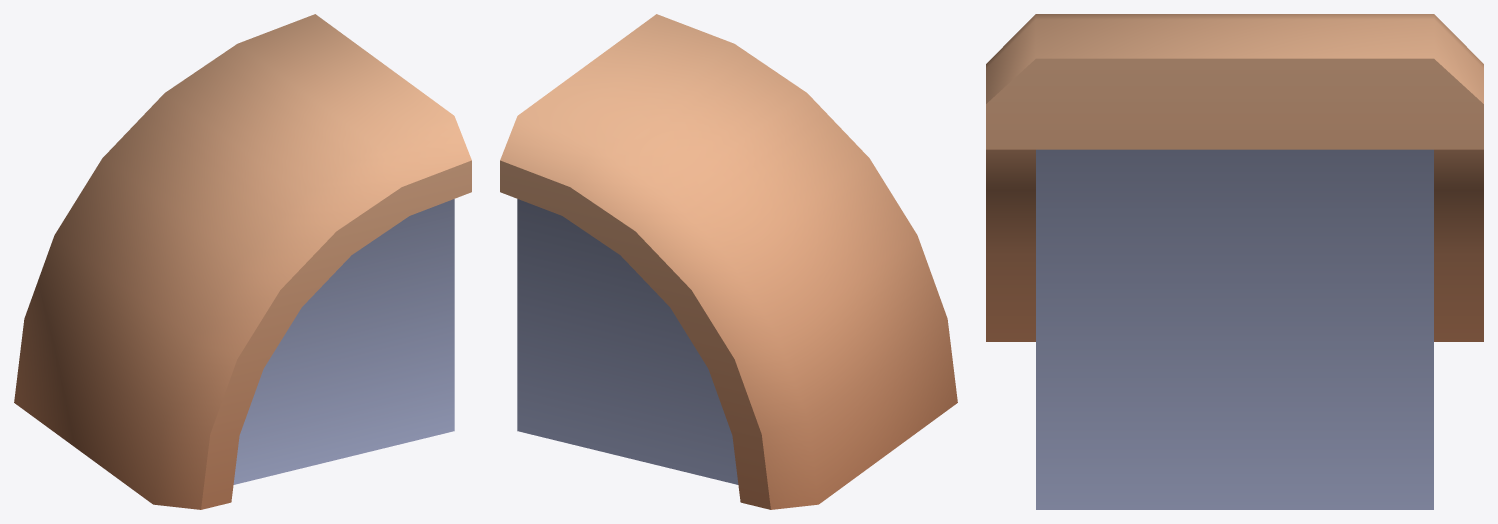
Rendered from block-grass-curve-half.glb.
3 views of the same model, side by side, from view 1: azimuth 30°, elevation 25°; view 2: azimuth 150°, elevation 25°; view 3: azimuth 270°, elevation 25° (orthographic). The views are drawn at different scales.
Parts seen in each view (by area): view 1: block-grass-curve-half; view 2: block-grass-curve-half; view 3: block-grass-curve-half.
Part boxes in pixels (bbox=[...]): block-grass-curve-half: bbox=[14, 14, 471, 509]; block-grass-curve-half: bbox=[500, 14, 957, 509]; block-grass-curve-half: bbox=[986, 14, 1483, 509].
Bounding box in the file's own units: 1 × 1 × 1.
